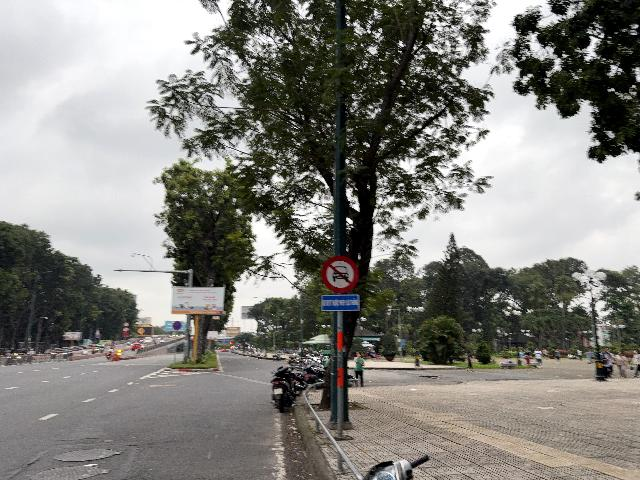cam-o-to: (322, 255, 358, 293)
